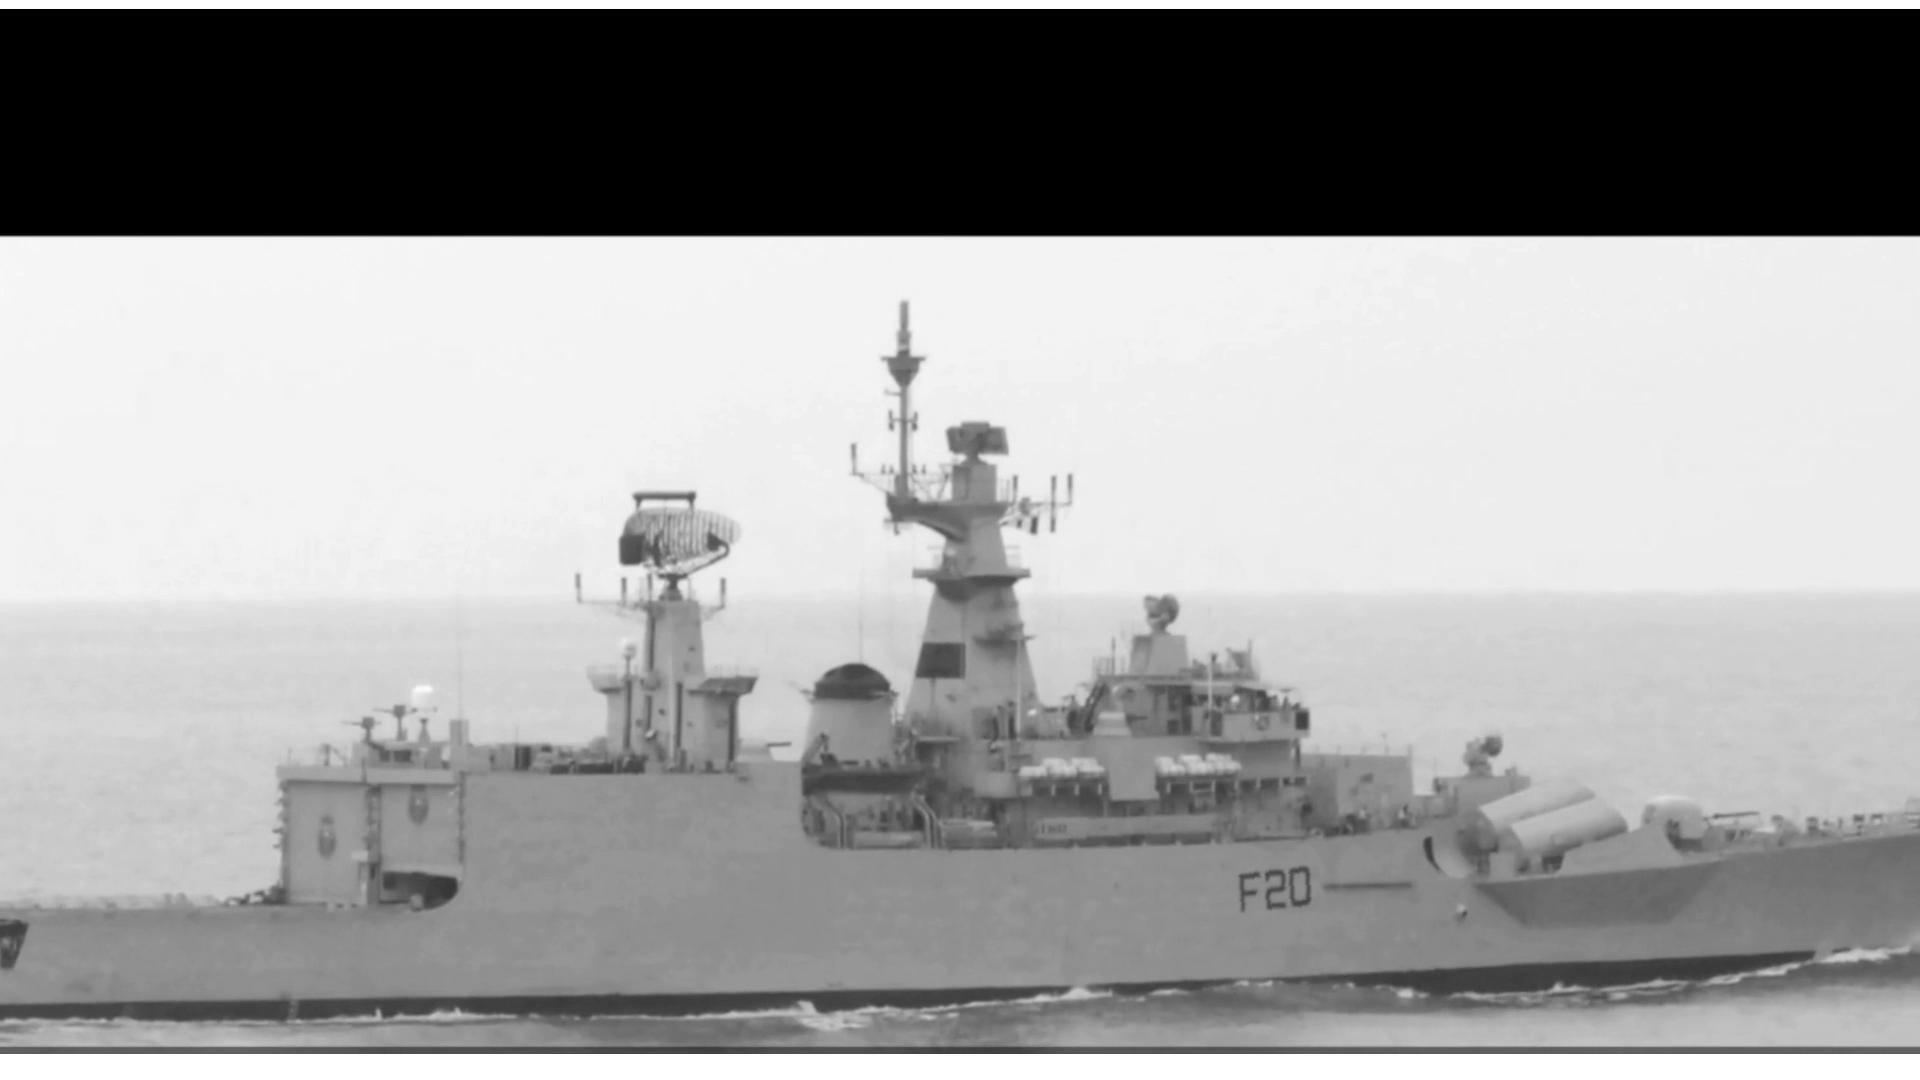OCR: (1215, 860, 1320, 930)
